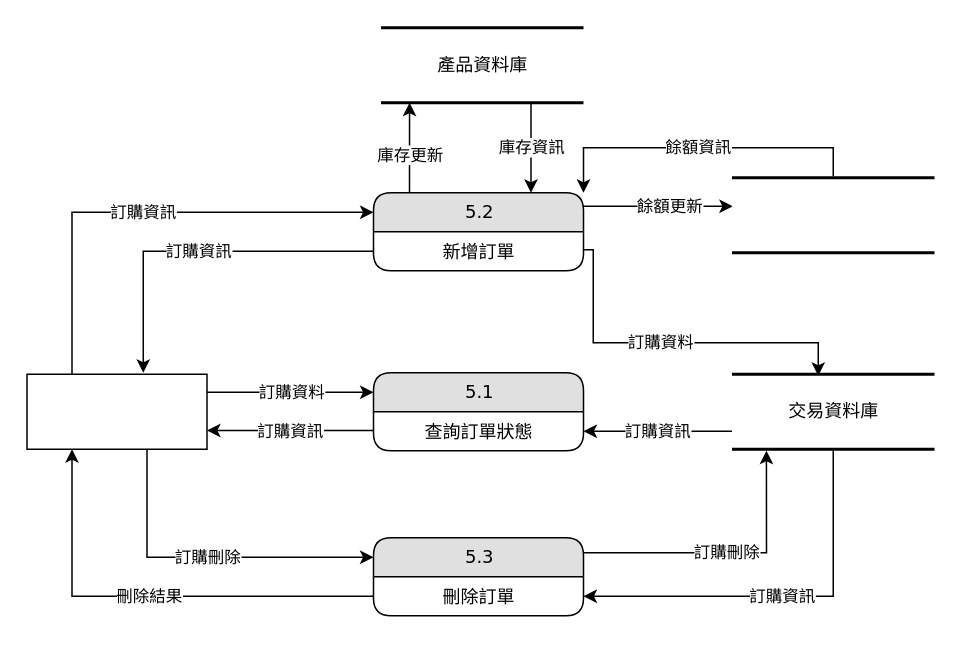
The diagram is 962 pixels wide and 645 high, and some of its shapes have lost their labels. The shapes that lost their labels are listed below. From the top down, each one's box as (x1, y1, x2, y2) in pixels, then its label:
(730, 176, 935, 254): 會員資料庫
(26, 373, 207, 449): 溫室管理者
